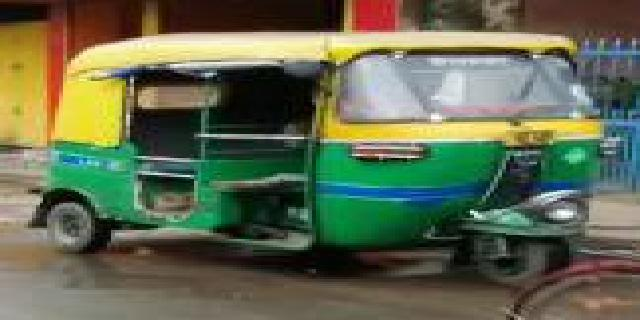Autorickshaw: (53, 32, 611, 309)
